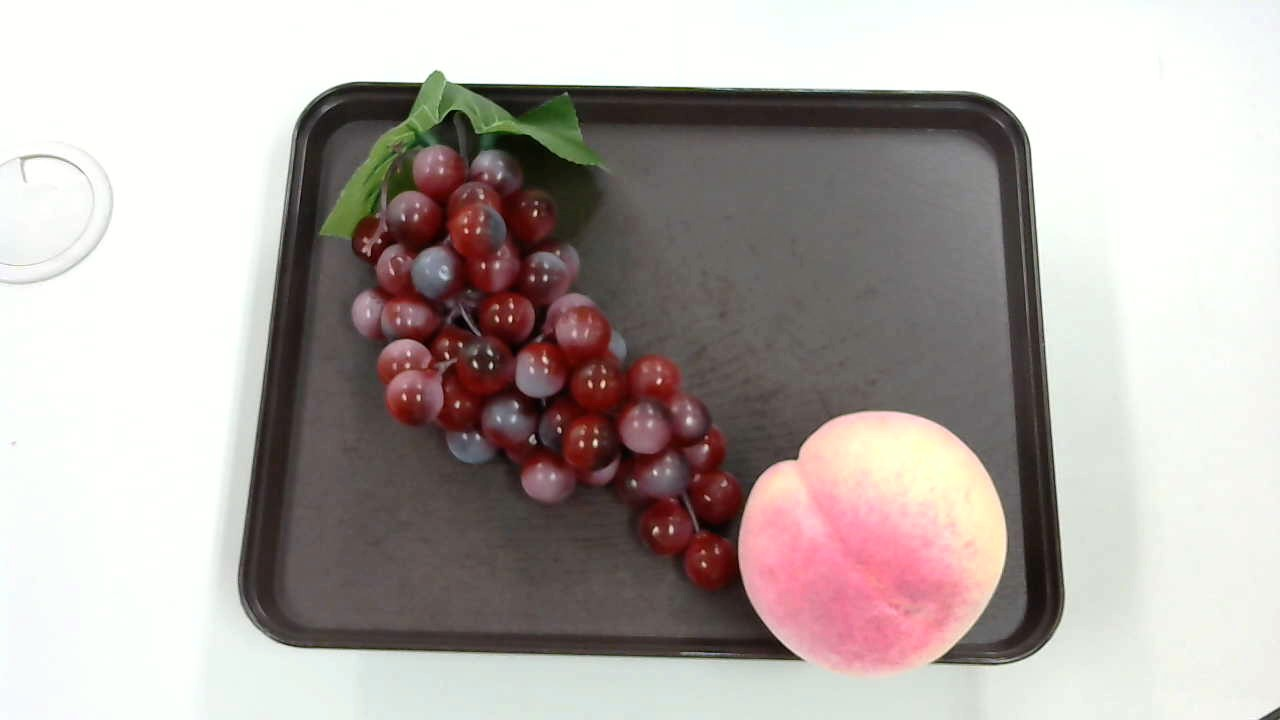grape: (310, 71, 749, 600)
peach: (735, 408, 1008, 674)
